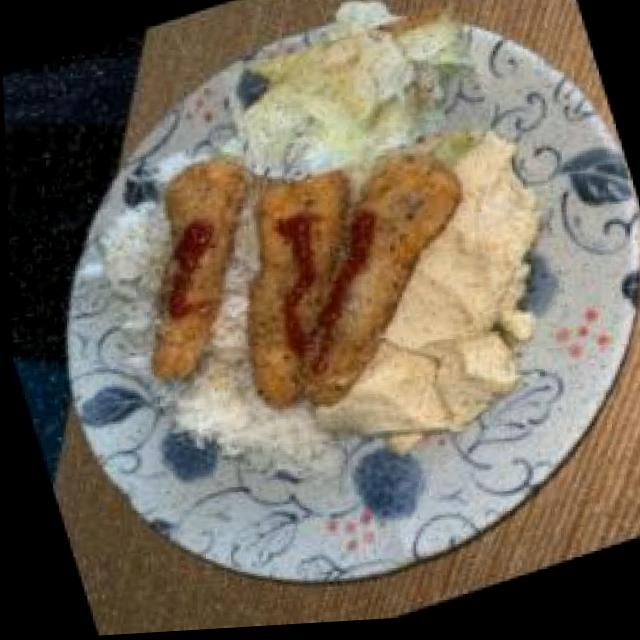chinese_cabbage: (219, 0, 497, 203)
rice: (155, 340, 335, 513)
